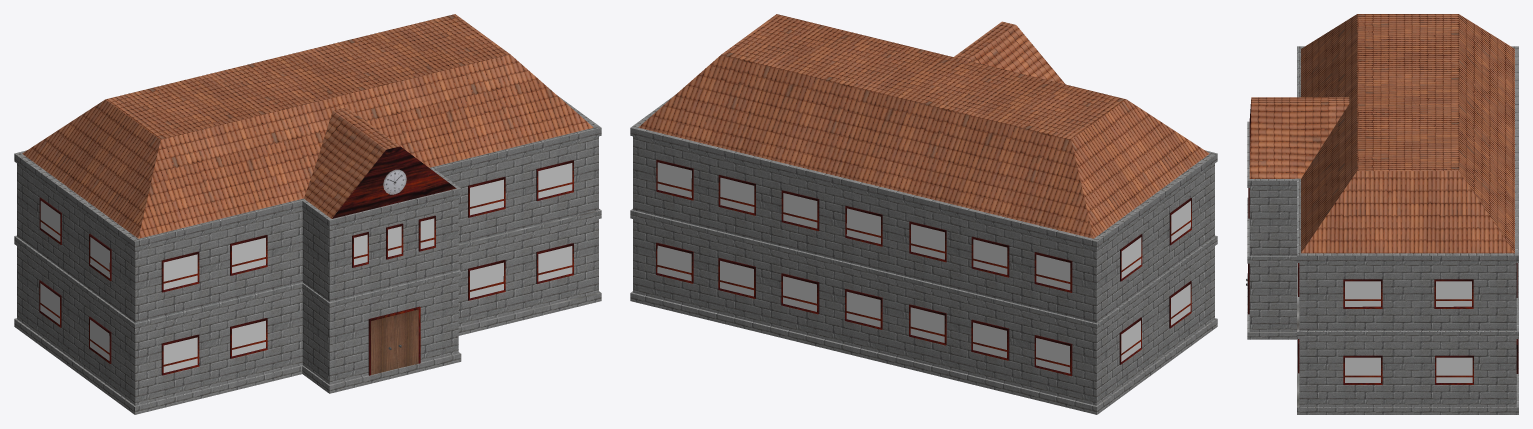
The model's file is OLD_BUILDING_SCHOOL.fbx.
The picture shows the model from 3 angles, left to right: view 1: azimuth 30°, elevation 25°; view 2: azimuth 150°, elevation 25°; view 3: azimuth 270°, elevation 25°; orthographic projection. The views are drawn at different scales.
Parts seen in each view (by area): view 1: OLD_BUILDING_SCHOOL; view 2: OLD_BUILDING_SCHOOL; view 3: OLD_BUILDING_SCHOOL.
Boxes of the visible parts, x1=… form: OLD_BUILDING_SCHOOL: x1=14, y1=14, x2=601, y2=414; OLD_BUILDING_SCHOOL: x1=630, y1=14, x2=1217, y2=414; OLD_BUILDING_SCHOOL: x1=1246, y1=14, x2=1518, y2=414.
Bounding box in the file's own units: 2302 × 1116 × 1268.
